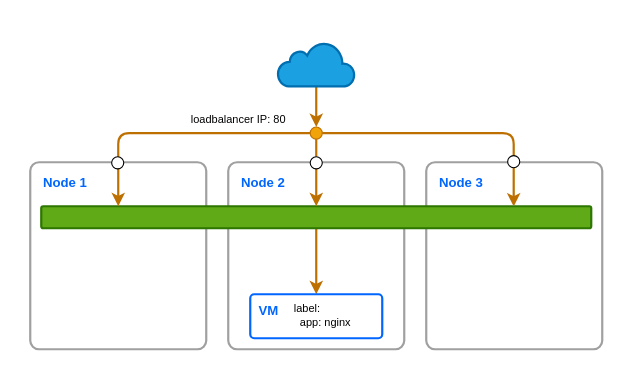
The diagram is 631 pixels wide and 378 high, and some of its shapes have lost their labels. Here are the shapes that lost their labels. From the top down, the box of each, then its label:
(276, 41, 355, 87): Network
(40, 205, 592, 229): Service / type=loadBalacner
